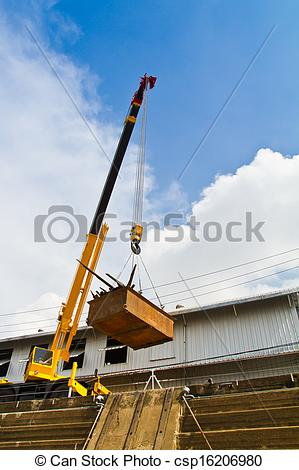crane: (17, 59, 164, 400)
